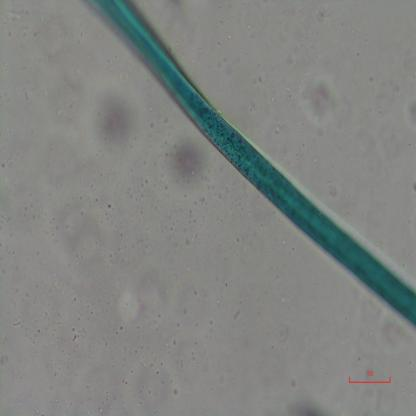Background material: (106, 268, 168, 323), (65, 208, 102, 270), (299, 76, 342, 127), (174, 140, 206, 191), (99, 105, 138, 146), (180, 188, 206, 247), (372, 312, 406, 350), (286, 394, 332, 415), (246, 68, 266, 93), (63, 318, 79, 348), (216, 54, 236, 75), (271, 123, 288, 137), (230, 307, 247, 320), (102, 201, 113, 219), (7, 316, 22, 328), (286, 87, 294, 104), (171, 388, 179, 398), (173, 337, 177, 349), (163, 185, 169, 192)
Microfibre: (93, 0, 416, 327)
